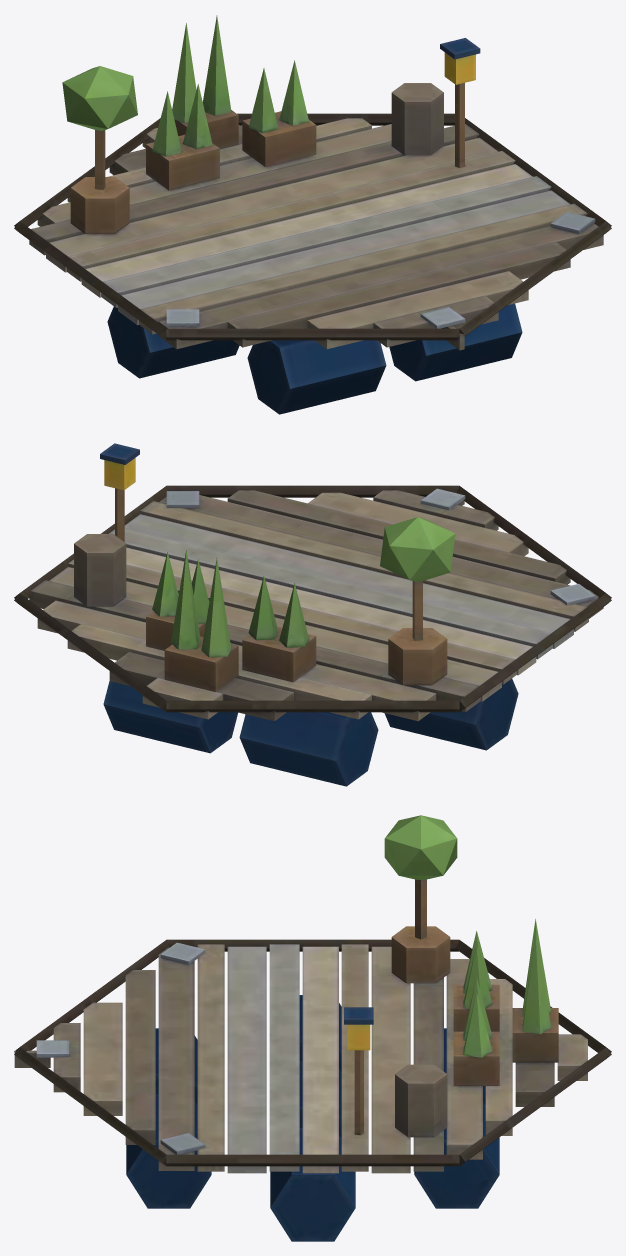
The model's file is raft-d-age10-lite.glb.
3 renders of one model, top to bottom at view 1: azimuth 30°, elevation 25°; view 2: azimuth 150°, elevation 25°; view 3: azimuth 270°, elevation 25°, orthographic.
Parts seen in each view (by area): view 1: raft-d-age10-lite; view 2: raft-d-age10-lite; view 3: raft-d-age10-lite.
Boxes of the visible parts, <box> form: raft-d-age10-lite: <box>14,15,611,414</box>; raft-d-age10-lite: <box>14,443,611,786</box>; raft-d-age10-lite: <box>14,815,611,1241</box>.
Bounding box in the file's own units: 1.59 × 0.8731 × 1.83.
Materials: 1 (1 with a texture image).
